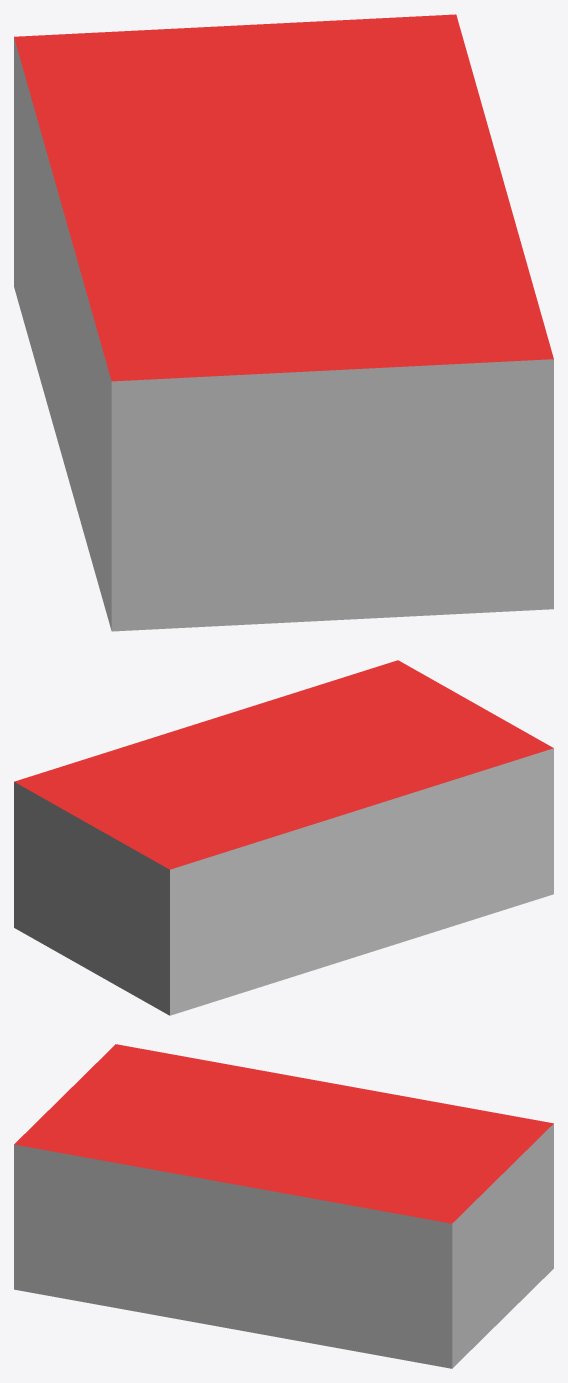
Rendered from DEBY_LOD2_8573617.dae.
3 views of the same model, one above another, from view 1: azimuth 30°, elevation 25°; view 2: azimuth 150°, elevation 25°; view 3: azimuth 270°, elevation 25° (orthographic). The views are drawn at different scales.
Bounding box in the file's own units: 7.14 × 9.07 × 2.69.
